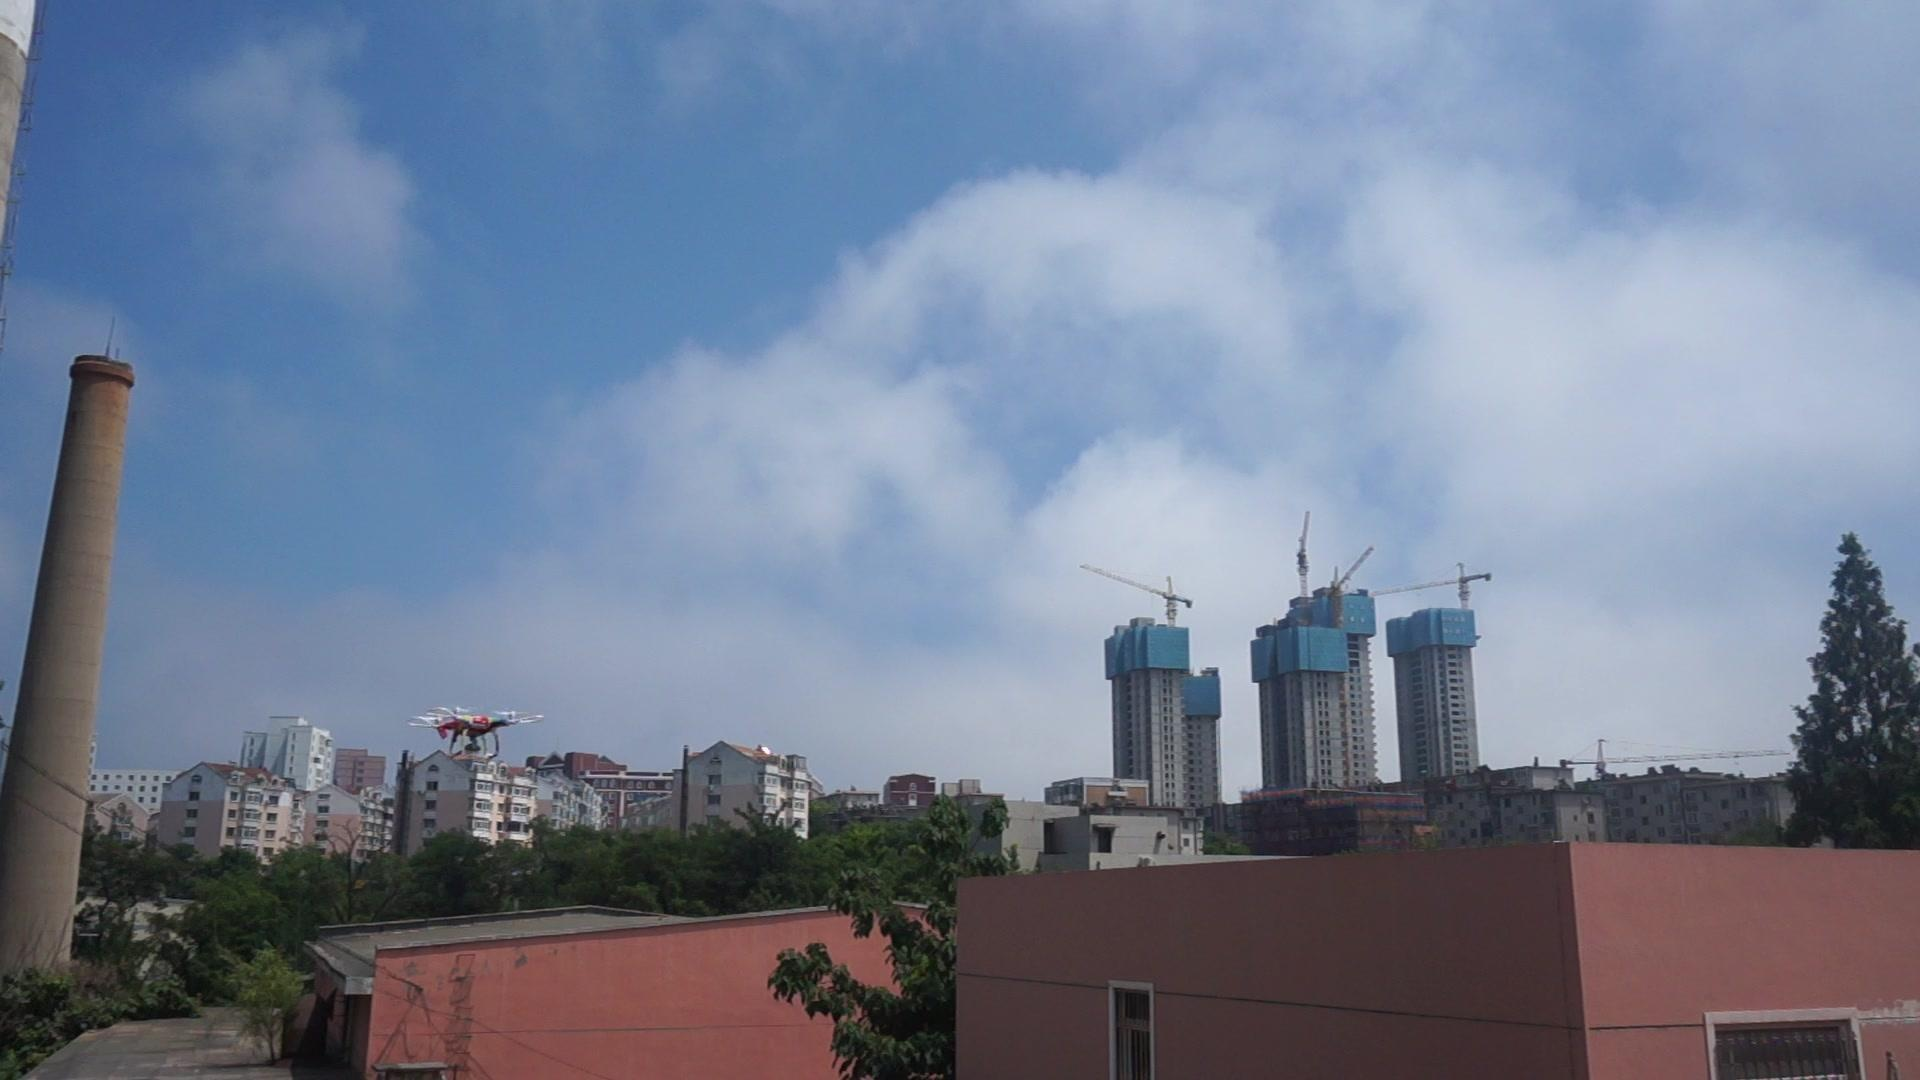UAV: (406, 707, 545, 762)
